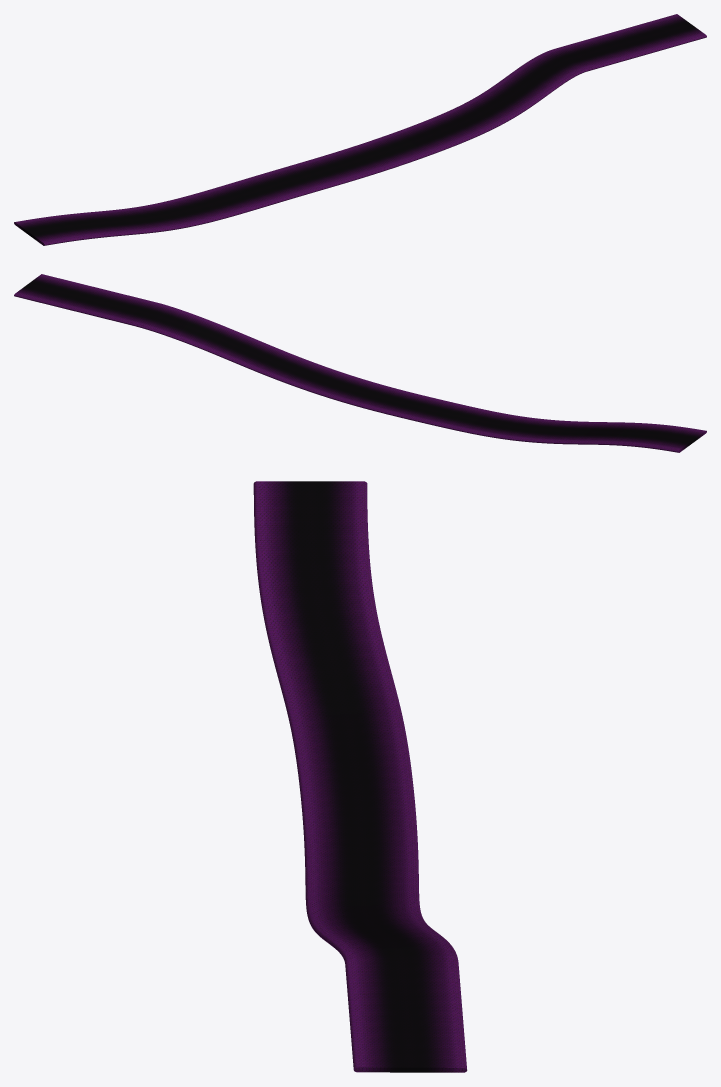
The model's file is level-02-track-08.glb.
The picture shows the model from 3 angles, top to bottom: view 1: azimuth 30°, elevation 25°; view 2: azimuth 150°, elevation 25°; view 3: azimuth 270°, elevation 25°; orthographic projection. The views are drawn at different scales.
Parts seen in each view (by area): view 1: track-08; view 2: track-08; view 3: track-08.
Boxes of the visible parts, x1,y1,x2,y2 form: track-08: (14, 14, 706, 245); track-08: (14, 274, 706, 452); track-08: (253, 481, 467, 1072).
Size of the model in its own units: 109 by 7.3 by 15.71.
2 materials, 2 textured.
